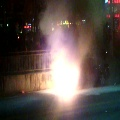fire: (49, 54, 78, 101)
